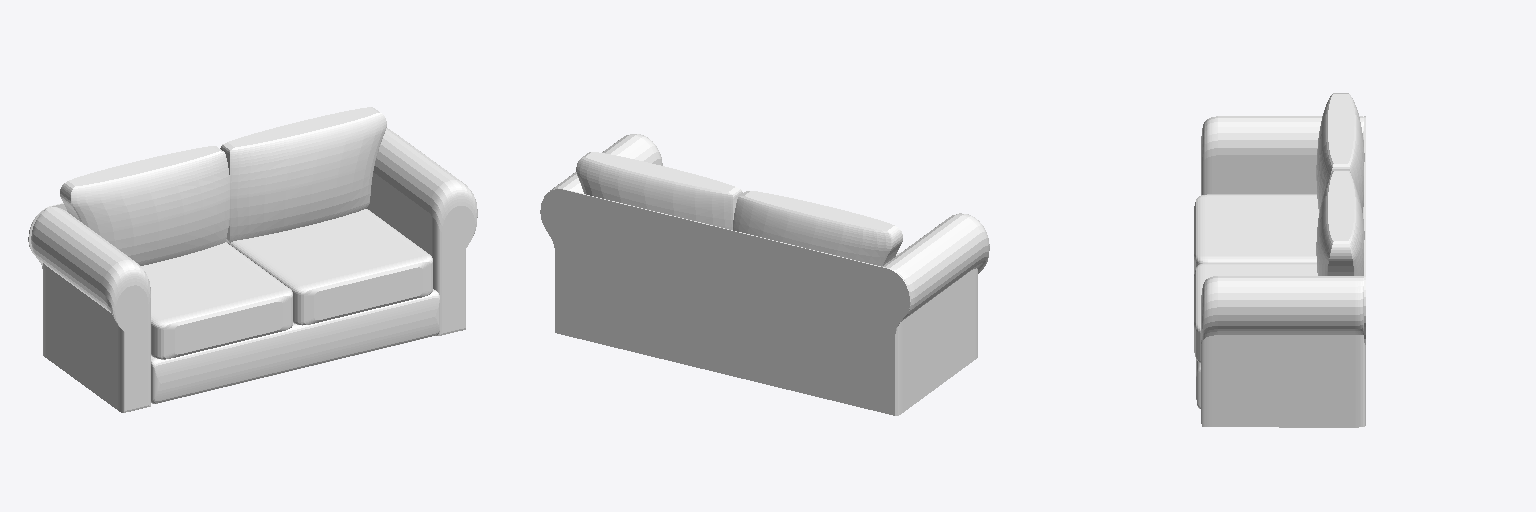
The model's file is sofa.obj.
3 renders of one model, left to right at view 1: azimuth 30°, elevation 25°; view 2: azimuth 150°, elevation 25°; view 3: azimuth 270°, elevation 25°, orthographic.
Parts seen in each view (by area): view 1: sofa2_1_1; view 2: sofa2_1_1; view 3: sofa2_1_1.
Part boxes in pixels (x1,y1,x2,y2): sofa2_1_1: (28,107,477,412); sofa2_1_1: (540,134,989,415); sofa2_1_1: (1194,93,1365,427).
Bounding box in the file's own units: 185 × 83.54 × 74.04.